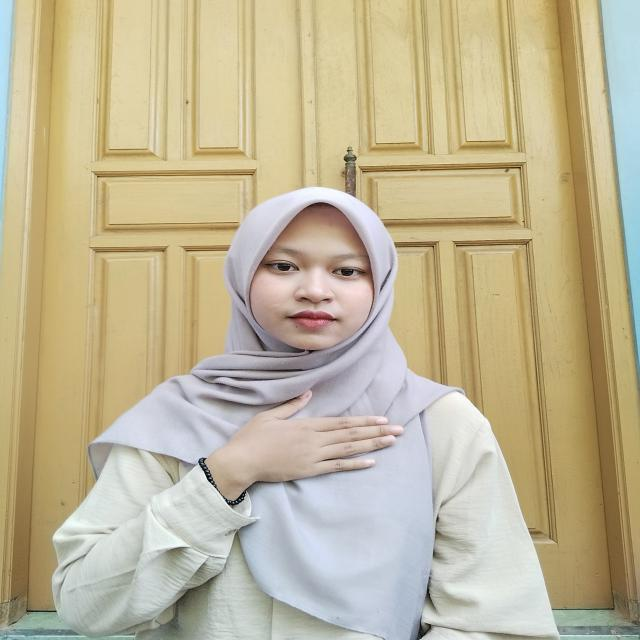tolong: (186, 391, 406, 516)
